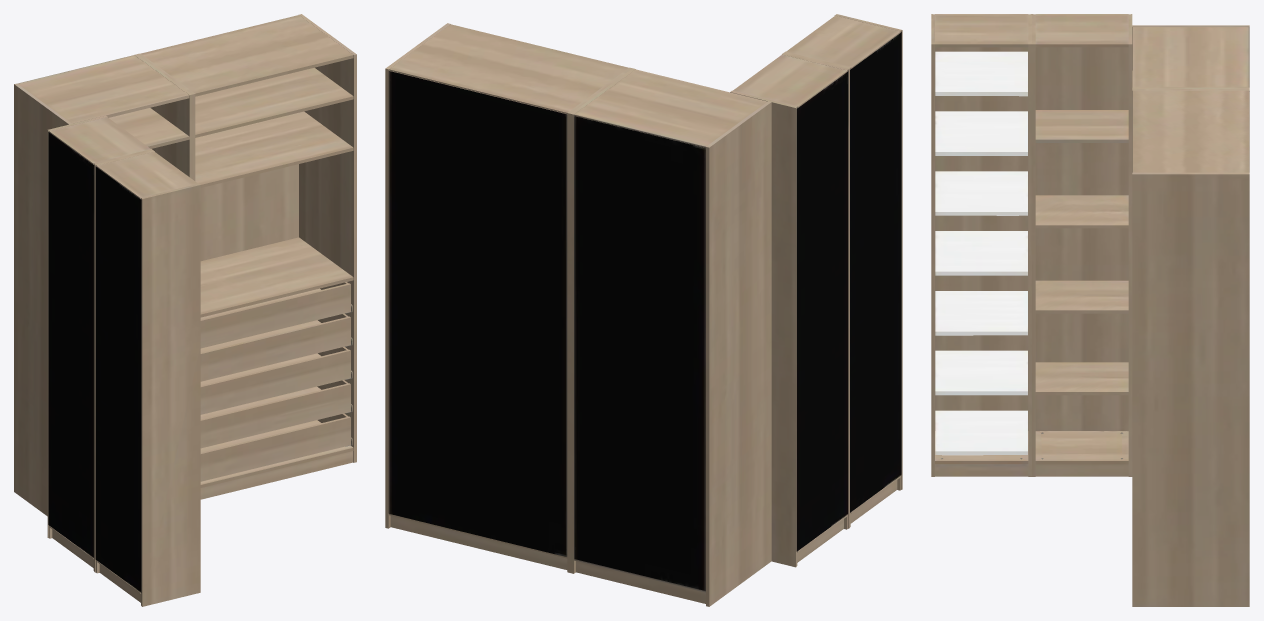
Rendered from pax_szafa_narozna_99217996.glb.
The picture shows the model from 3 angles, left to right: view 1: azimuth 30°, elevation 25°; view 2: azimuth 150°, elevation 25°; view 3: azimuth 270°, elevation 25°; orthographic projection. The views are drawn at different scales.
Parts seen in each view (by area): view 1: pax_szafa_narozna_99217996; view 2: pax_szafa_narozna_99217996; view 3: pax_szafa_narozna_99217996.
Boxes of the visible parts, left/top/right/bottom form: pax_szafa_narozna_99217996: left=14, top=14, right=356, bottom=606; pax_szafa_narozna_99217996: left=385, top=14, right=902, bottom=606; pax_szafa_narozna_99217996: left=931, top=14, right=1249, bottom=606.
Bounding box in the file's own units: 1.88 × 2.36 × 1.57.
2 materials, 2 textured.
